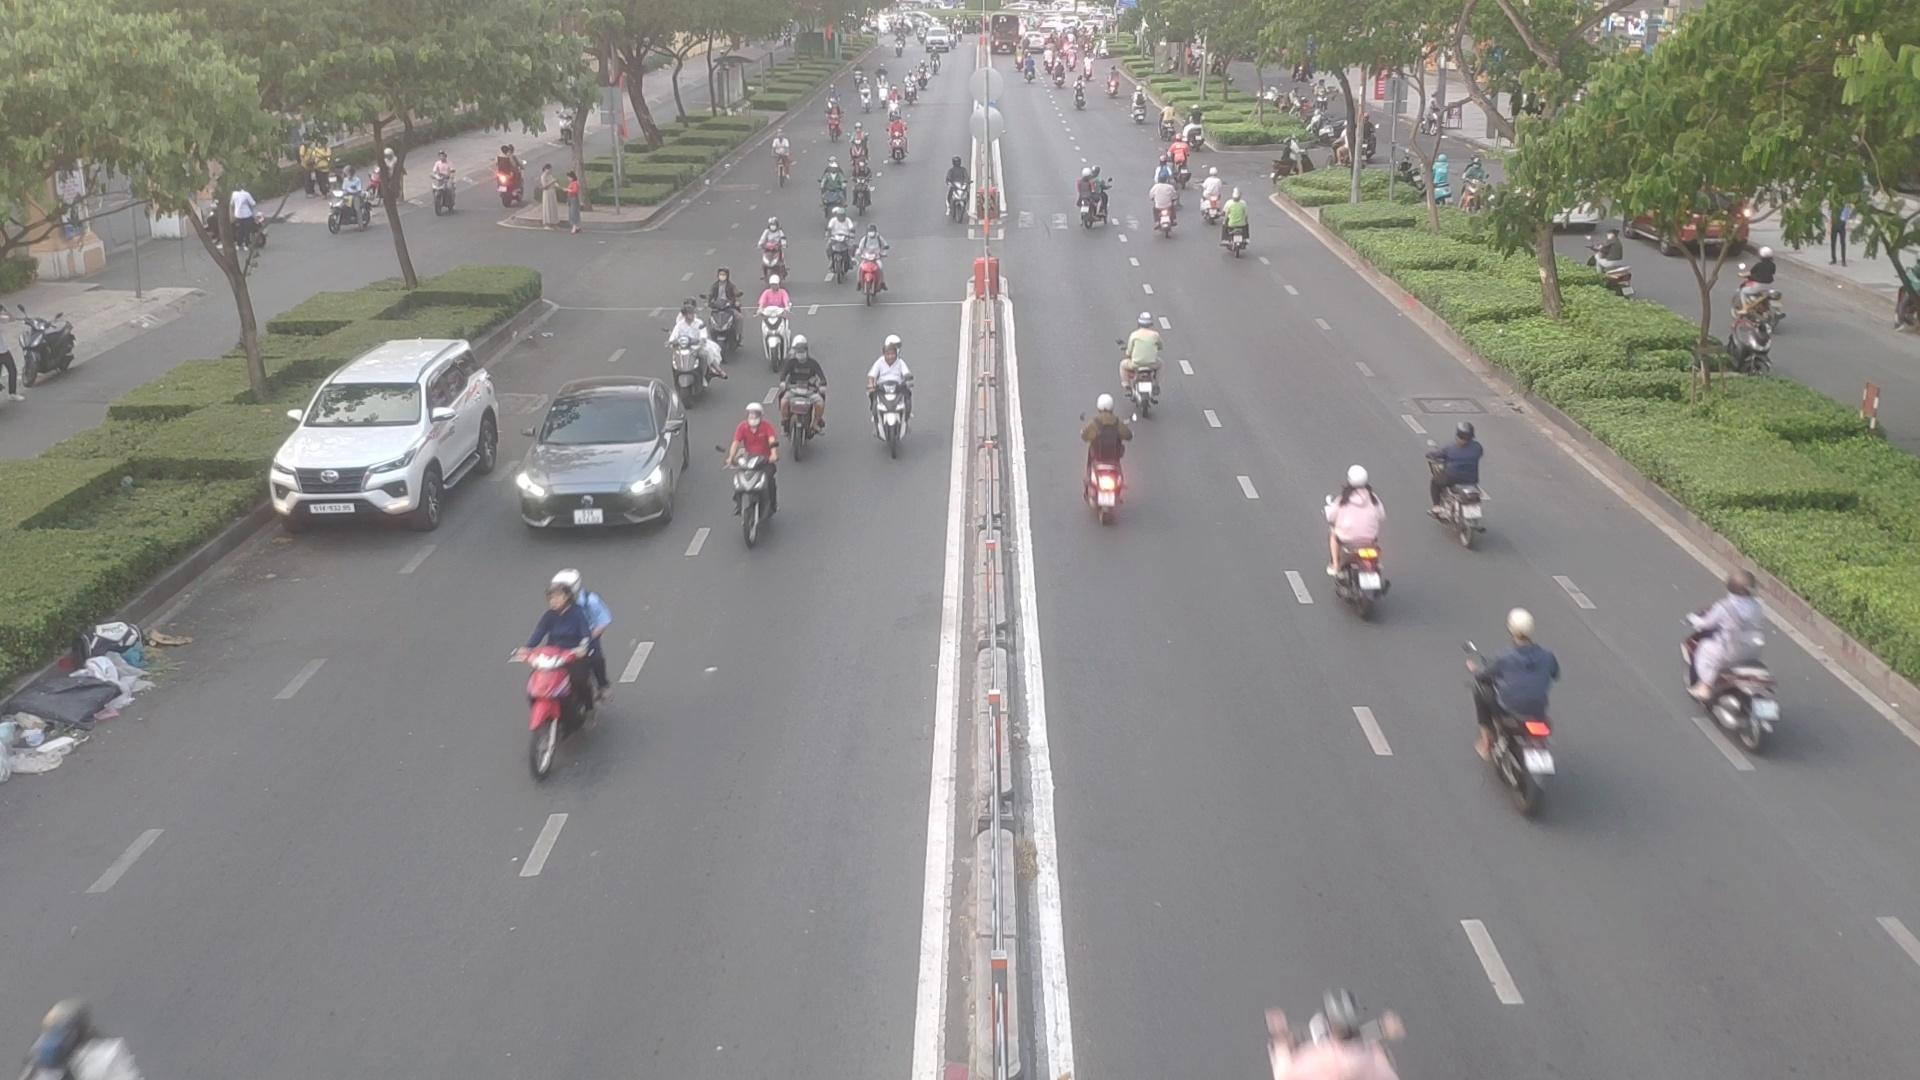car: (270, 339, 516, 531), (518, 378, 696, 531)
motorbike: (506, 578, 626, 767), (1462, 626, 1571, 810), (1683, 579, 1793, 753), (1253, 985, 1418, 1080), (1307, 473, 1389, 609), (1077, 384, 1145, 549), (769, 336, 833, 463), (724, 413, 786, 541), (1432, 426, 1494, 538), (861, 342, 920, 454), (1113, 316, 1171, 411), (663, 316, 717, 402), (848, 227, 894, 305), (700, 270, 746, 347), (752, 281, 796, 356), (1065, 167, 1114, 232), (1220, 196, 1258, 258), (824, 200, 852, 284), (816, 160, 848, 229), (756, 214, 786, 284), (1159, 129, 1193, 190), (1149, 175, 1182, 236), (1196, 169, 1222, 224), (848, 162, 876, 214), (942, 157, 967, 212), (887, 121, 909, 164), (847, 131, 870, 167)
